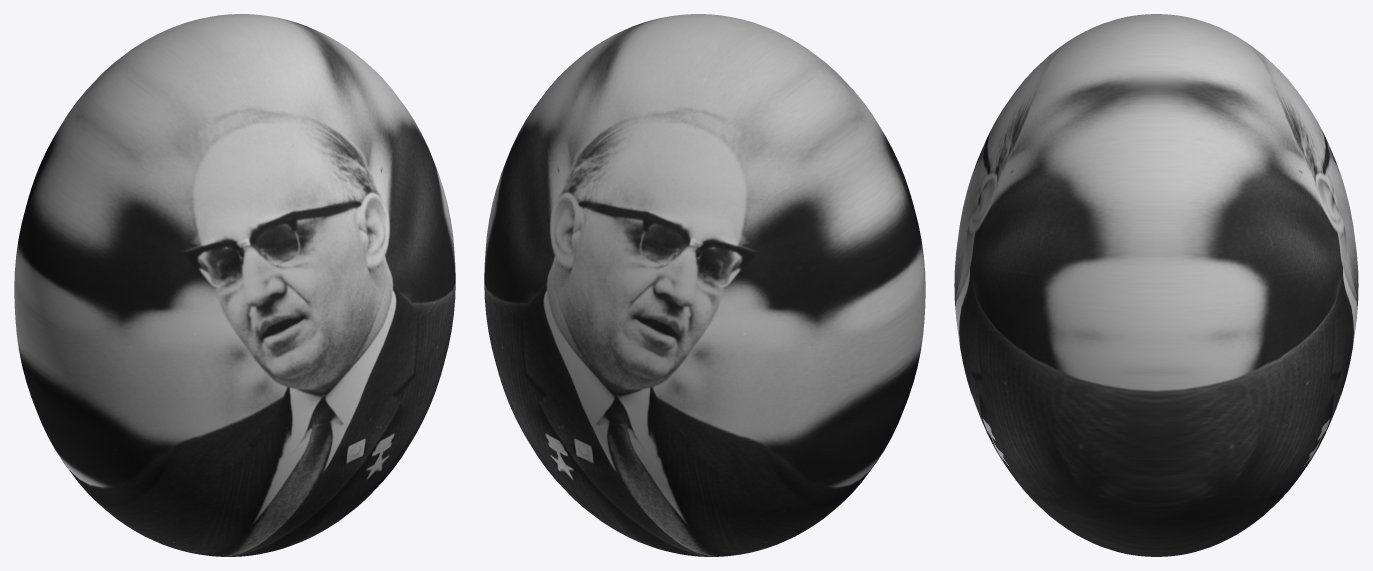
The model's file is todor-zhivkov.glb.
The picture shows the model from 3 angles, left to right: view 1: azimuth 30°, elevation 25°; view 2: azimuth 150°, elevation 25°; view 3: azimuth 270°, elevation 25°; orthographic projection.
Visible parts, largest first — view 1: head; view 2: head; view 3: head.
Part boxes in pixels (bbox=[...]): head: bbox=[14, 14, 455, 556]; head: bbox=[484, 14, 925, 556]; head: bbox=[954, 14, 1358, 556].
Bounding box in the file's own units: 1.6 × 2 × 1.44.
1 material, 1 textured.
